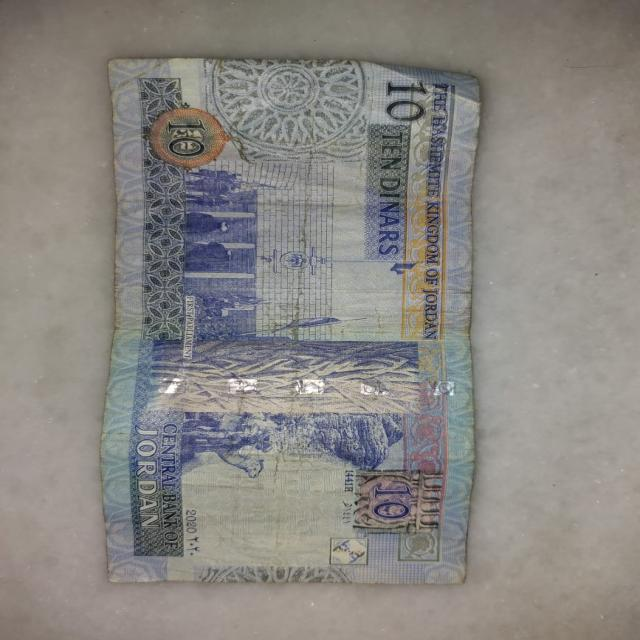10-dinar: (106, 56, 477, 589)
